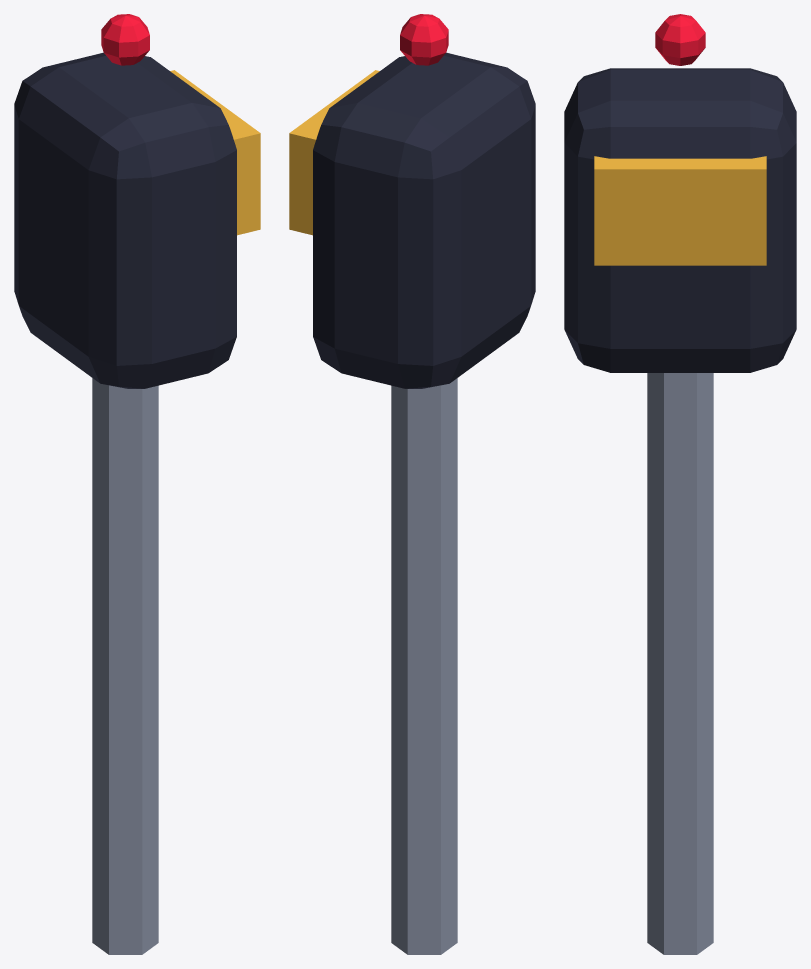
Rendered from pf_compteur.glb.
The picture shows the model from 3 angles, left to right: view 1: azimuth 30°, elevation 25°; view 2: azimuth 150°, elevation 25°; view 3: azimuth 270°, elevation 25°; orthographic projection.
Parts seen in each view (by area): view 1: p_rbox.147, p_cyl.122, p_box.1395, p_sph.356; view 2: p_rbox.147, p_cyl.122, p_box.1395, p_sph.356; view 3: p_rbox.147, p_cyl.122, p_box.1395, p_sph.356.
Part boxes in pixels (bbox=[...]): p_rbox.147: bbox=[14, 52, 236, 388]; p_cyl.122: bbox=[92, 378, 158, 954]; p_box.1395: bbox=[170, 70, 260, 235]; p_sph.356: bbox=[101, 14, 149, 65]; p_rbox.147: bbox=[313, 52, 535, 388]; p_cyl.122: bbox=[391, 378, 457, 954]; p_box.1395: bbox=[289, 70, 379, 235]; p_sph.356: bbox=[400, 14, 448, 65]; p_rbox.147: bbox=[564, 68, 796, 372]; p_cyl.122: bbox=[647, 373, 713, 954]; p_box.1395: bbox=[594, 156, 766, 265]; p_sph.356: bbox=[655, 14, 705, 65].
Bounding box in the file's own units: 0.285 × 1.54 × 0.35.
